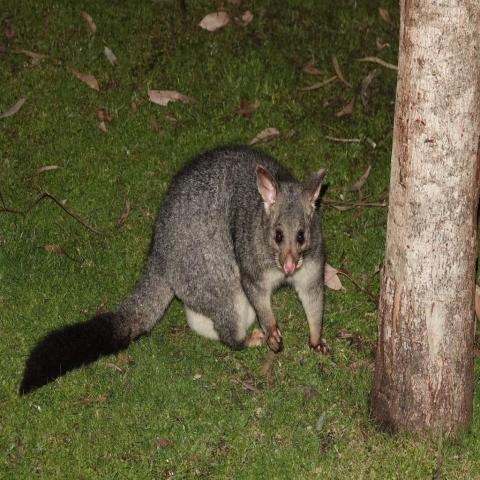small_animal: (19, 140, 334, 396)
